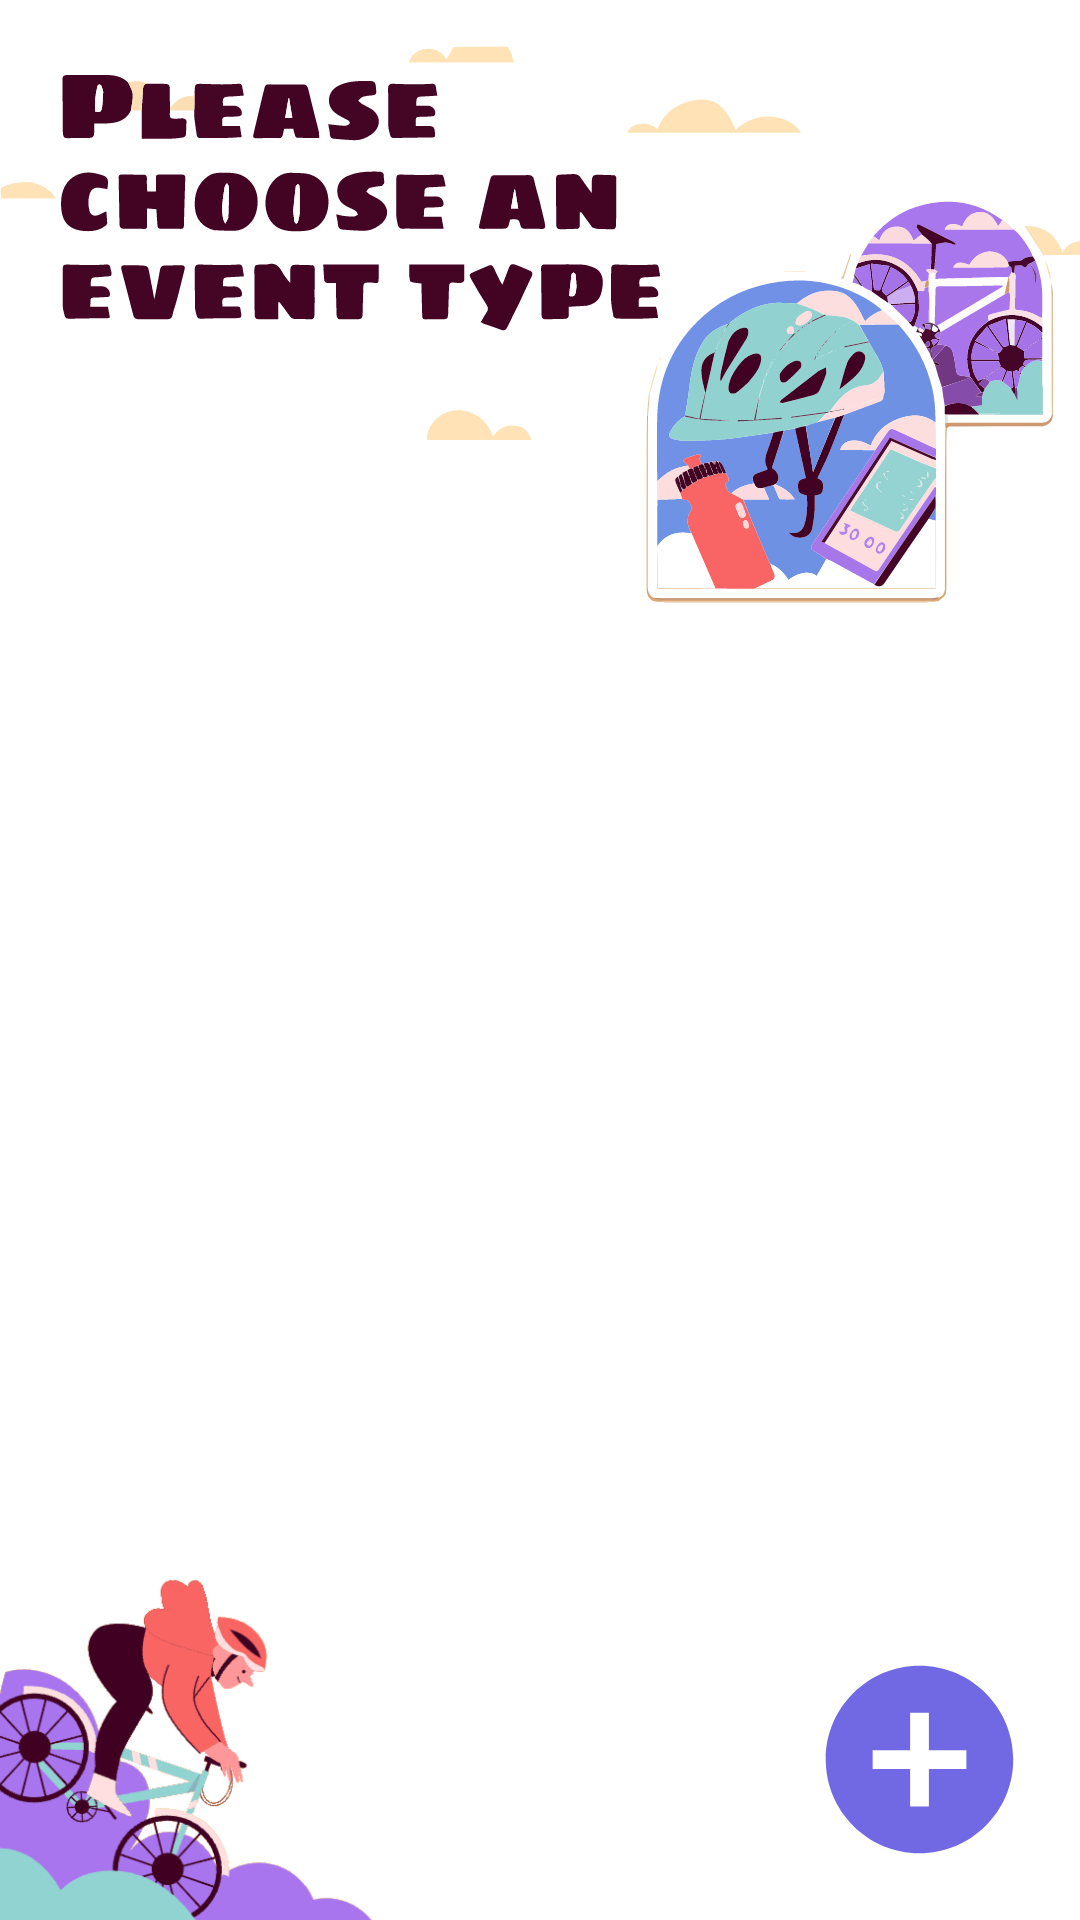

Point at icon controls on the screen. Image size 1080*1920, points as (x,y).
add circle: (919,1759)
